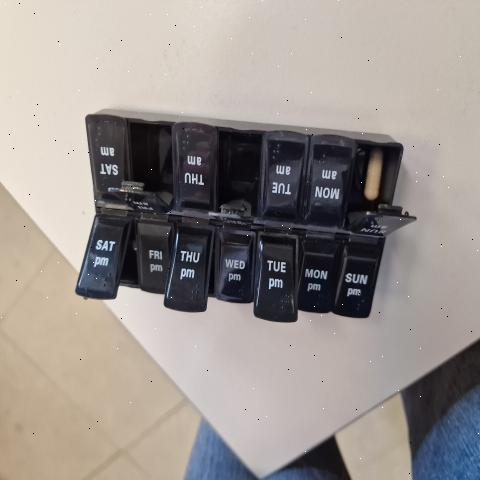Open: (345, 141, 417, 230), (109, 120, 172, 210), (212, 124, 260, 234), (115, 219, 138, 299), (205, 227, 215, 304), (252, 237, 260, 313)
Pill: (360, 150, 386, 206)
